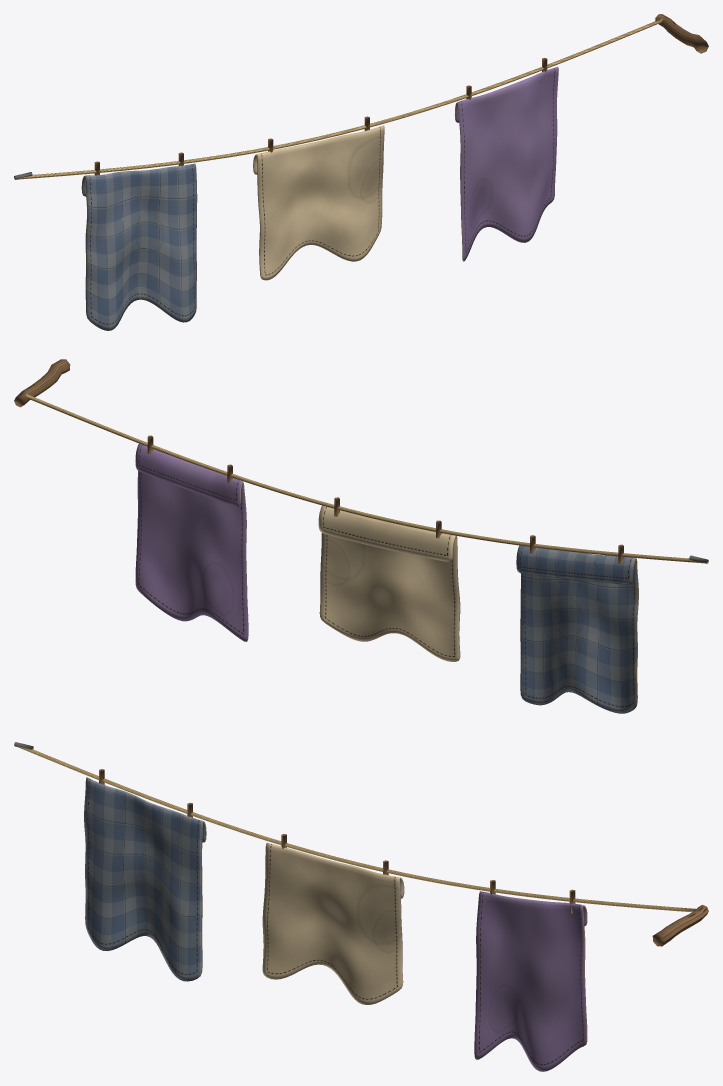
The model's file is varal.gltf.
3 renders of one model, top to bottom at view 1: azimuth 30°, elevation 25°; view 2: azimuth 150°, elevation 25°; view 3: azimuth 330°, elevation 25°, orthographic. The views are drawn at different scales.
Parts seen in each view (by area): view 1: Pano0, Pano1, Pano2, Corda, Toco; view 2: Pano0, Pano2, Pano1, Corda, Toco; view 3: Pano0, Pano2, Pano1, Corda, Toco.
Boxes of the visible parts, x1,y1,x2,y2 form: Pano0: (81,163,197,330); Pano1: (253,125,384,280); Pano2: (454,67,558,261); Corda: (14,18,663,179); Toco: (655,14,708,53); Pano0: (516,545,638,713); Pano2: (135,443,248,641); Pano1: (318,505,460,661); Corda: (26,394,708,563); Toco: (14,359,70,407); Pano0: (84,777,206,981); Pano2: (474,891,587,1071); Pano1: (262,842,404,1004); Corda: (17,746,696,912); Toco: (652,905,708,946).
Size of the model in its own units: 2.38 by 0.6724 by 0.2741.
4 materials, 3 textured.
